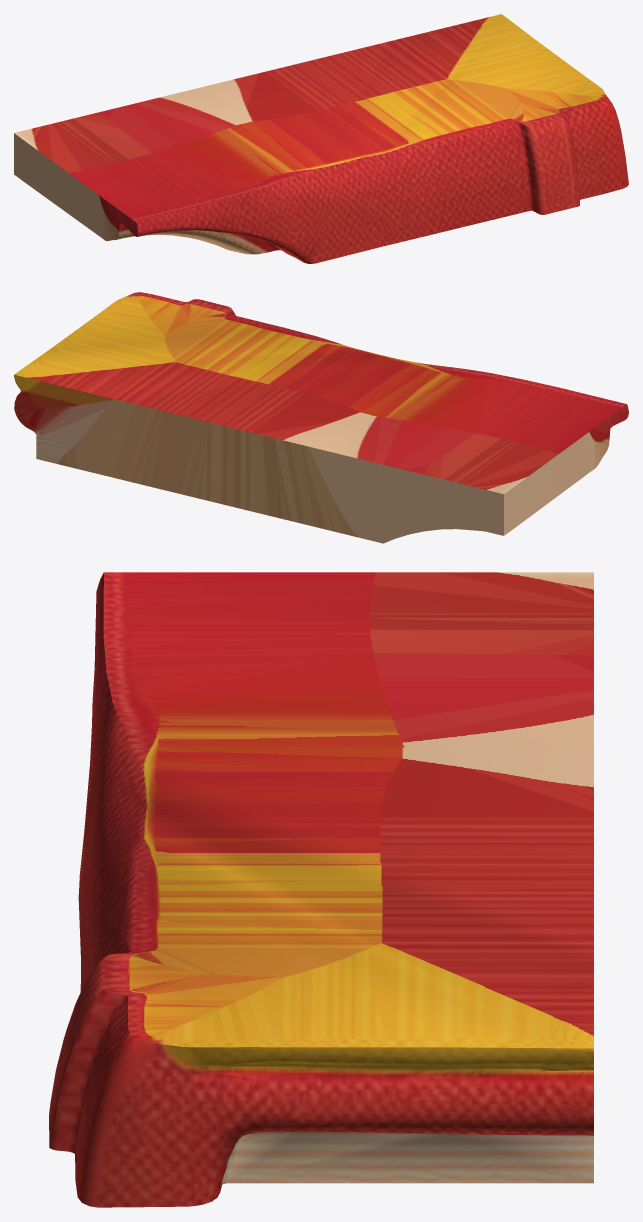
The model's file is 10-roof-front-right.fbx.
3 views of the same model, one above another, from view 1: azimuth 30°, elevation 25°; view 2: azimuth 150°, elevation 25°; view 3: azimuth 270°, elevation 25° (orthographic). The views are drawn at different scales.
Parts seen in each view (by area): view 1: roof-front-right; view 2: roof-front-right; view 3: roof-front-right.
Boxes of the visible parts, left/top/right/bottom form: roof-front-right: left=14, top=14, right=628, bottom=263; roof-front-right: left=14, top=292, right=628, bottom=543; roof-front-right: left=49, top=572, right=593, bottom=1207.
Size of the model in its own units: 6047 by 924 by 2910.
1 material, 1 textured.
